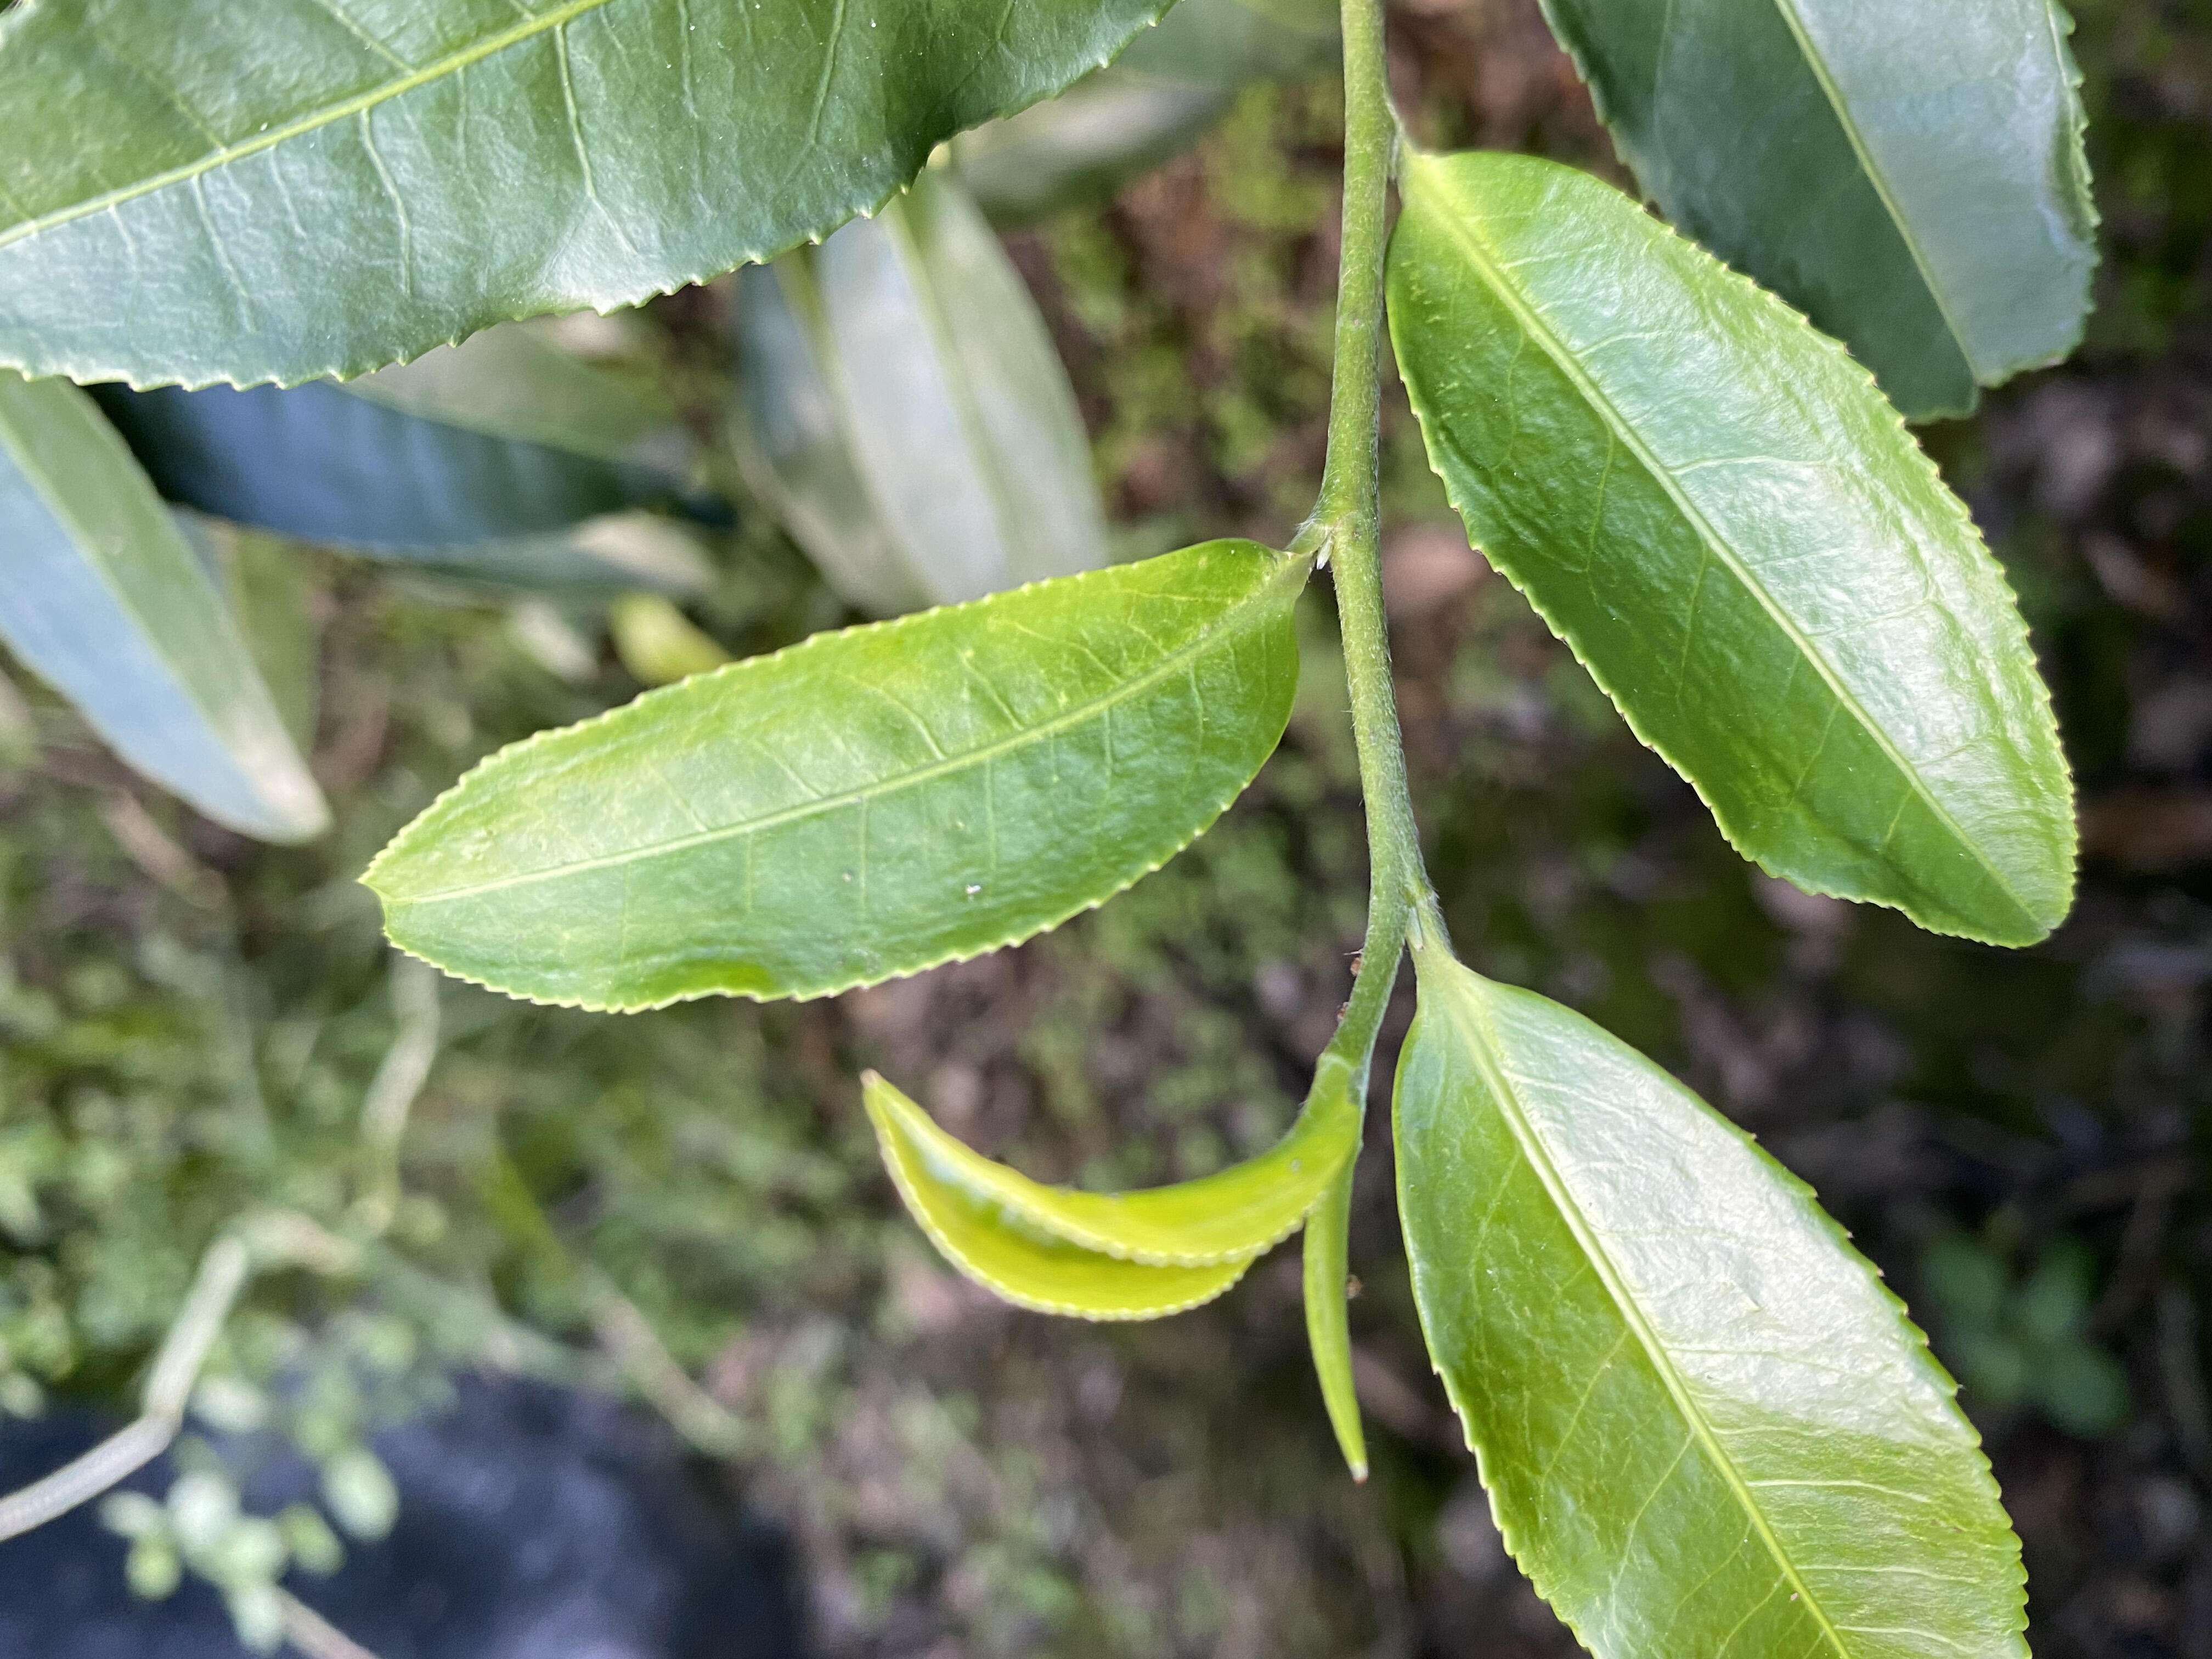healthy: (1383, 148, 2085, 951), (0, 2, 1176, 399), (355, 537, 1310, 1021), (1386, 976, 2036, 1657)
